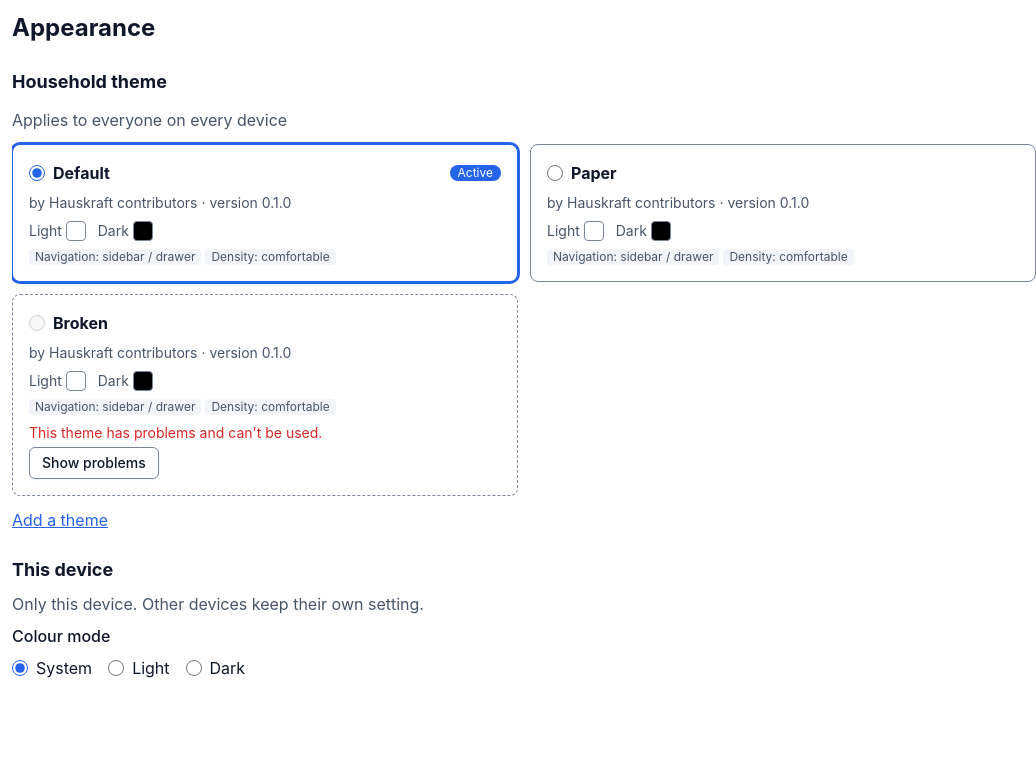
Scenario: Appearance › invalid themes cannot be selected and explain why
The width and height of the screenshot is (1036, 780).
Expected: the radio button labelled "Broken" is disabled, [29, 315, 45, 331]
Click the button "Show problems" at (94, 463), box [29, 447, 159, 479]
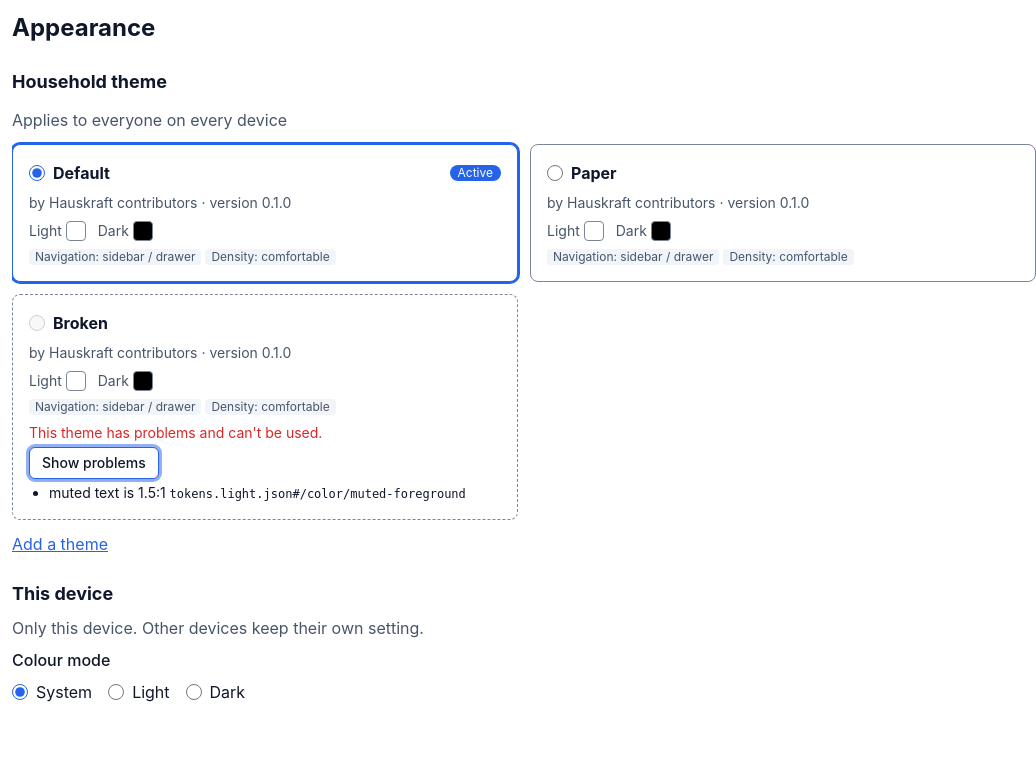
Expected: the list item "muted text is 1.5:1" is shown, [49, 484, 166, 501]
Expected: the text "tokens.light.json#/color/muted-foreground" is shown, [170, 487, 466, 501]
